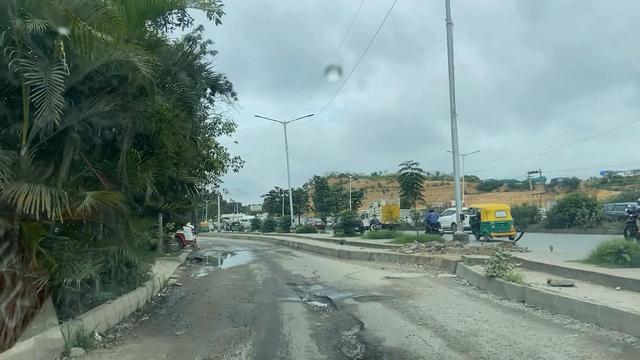RoadDamages: (290, 318, 383, 360), (282, 278, 338, 314), (383, 264, 459, 283), (354, 287, 396, 309)
